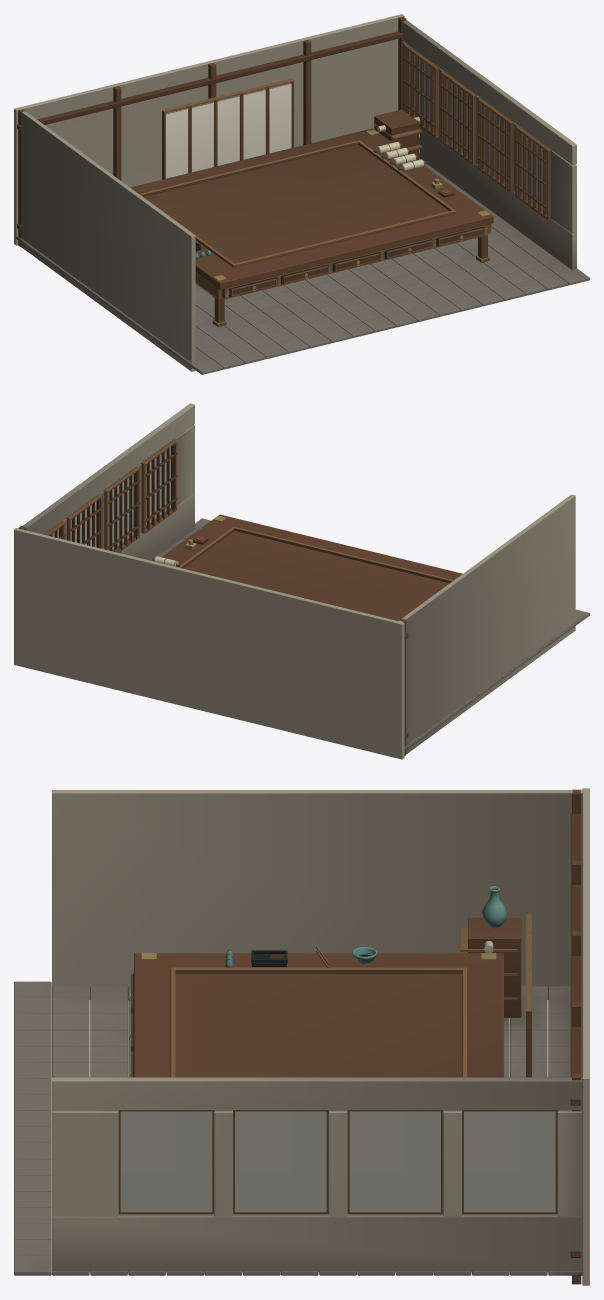
The model's file is atlas-study.glb.
3 renders of one model, top to bottom at view 1: azimuth 30°, elevation 25°; view 2: azimuth 150°, elevation 25°; view 3: azimuth 270°, elevation 25°, orthographic. The views are drawn at different scales.
Parts seen in each view (by area): view 1: Study wall, Study timber, Study floor, Study edge, Study screen silk, Study window silk, Study paper, Study ink; view 2: Study wall, Study timber, Study edge, Study window silk, Study floor; view 3: Study wall, Study timber, Study window silk, Study floor, Study edge, Study celadon, Study ink.
Boxes of the visible parts, bbox=[...] form: Study wall: bbox=[14, 14, 576, 371]; Study timber: bbox=[17, 16, 546, 296]; Study floor: bbox=[16, 158, 589, 374]; Study edge: bbox=[139, 44, 551, 326]; Study screen silk: bbox=[166, 84, 291, 178]; Study window silk: bbox=[409, 52, 546, 212]; Study paper: bbox=[165, 82, 424, 178]; Study ink: bbox=[195, 226, 484, 296]; Study wall: bbox=[14, 403, 575, 759]; Study timber: bbox=[18, 444, 462, 755]; Study edge: bbox=[44, 439, 453, 618]; Study window silk: bbox=[52, 447, 170, 550]; Study floor: bbox=[151, 518, 589, 750]; Study wall: bbox=[52, 788, 589, 1285]; Study timber: bbox=[131, 789, 581, 1284]; Study window silk: bbox=[120, 1111, 555, 1212]; Study floor: bbox=[14, 981, 582, 1275]; Study edge: bbox=[118, 914, 557, 1214]; Study celadon: bbox=[225, 886, 506, 967]; Study ink: bbox=[133, 950, 370, 1077].
Bounding box in the file's own units: 18 × 6 × 15.09.
